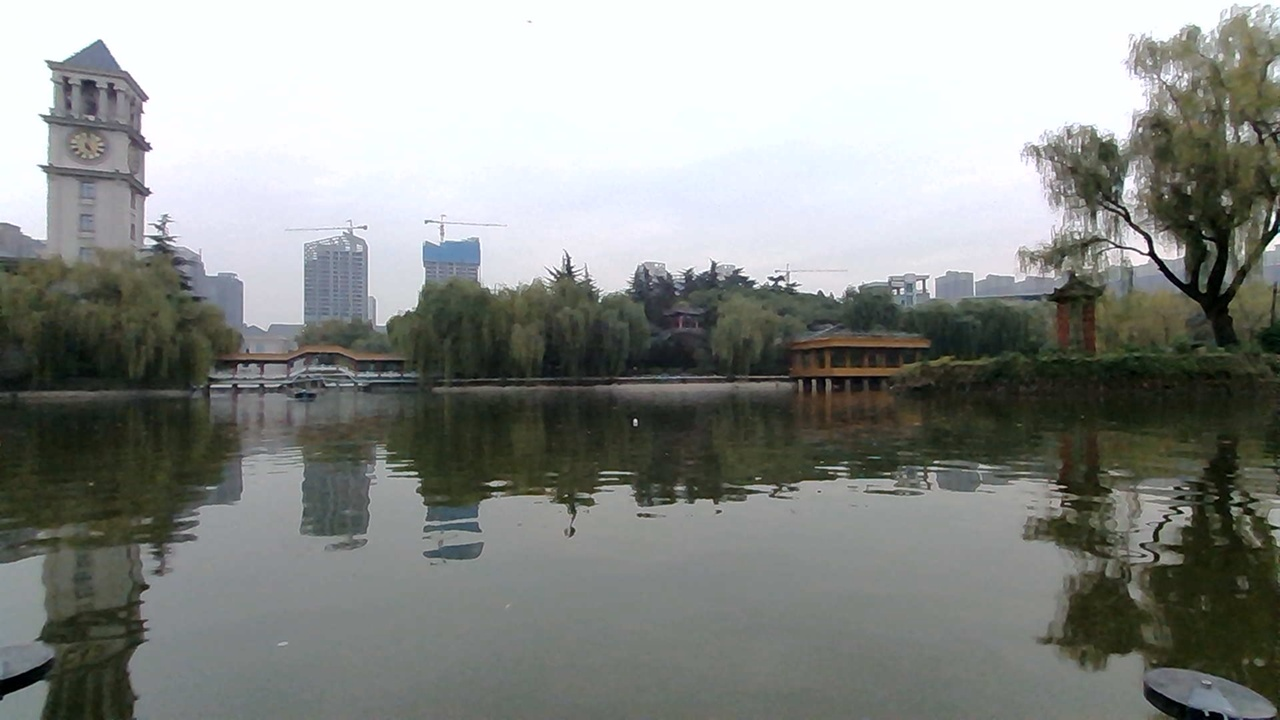bottle: (629, 407, 673, 440)
